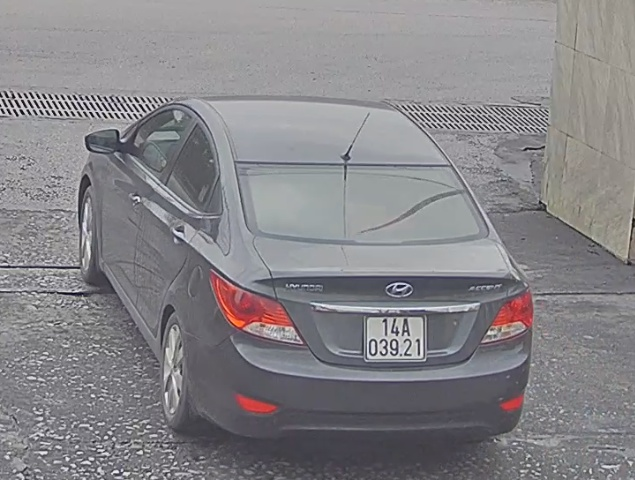vehicle plate: (361, 308, 425, 365)
